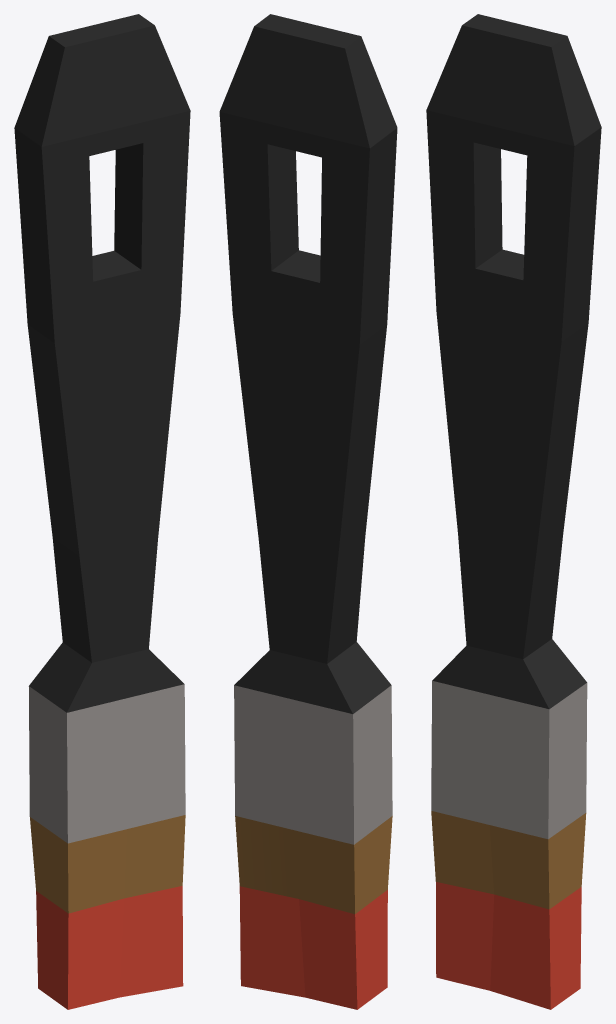
The model's file is tools_brush-straight-thin-paint.fbx.
3 renders of one model, left to right at view 1: azimuth 30°, elevation 25°; view 2: azimuth 150°, elevation 25°; view 3: azimuth 330°, elevation 25°, orthographic.
Visible parts, largest first — view 1: tools_brush_straight_thin_paint; view 2: tools_brush_straight_thin_paint; view 3: tools_brush_straight_thin_paint.
Part boxes in pixels (<box>): tools_brush_straight_thin_paint: <box>14,14,190,1009</box>; tools_brush_straight_thin_paint: <box>219,14,397,1009</box>; tools_brush_straight_thin_paint: <box>426,14,601,1009</box>.
Bounding box in the file's own units: 32.67 × 200 × 14.85.
